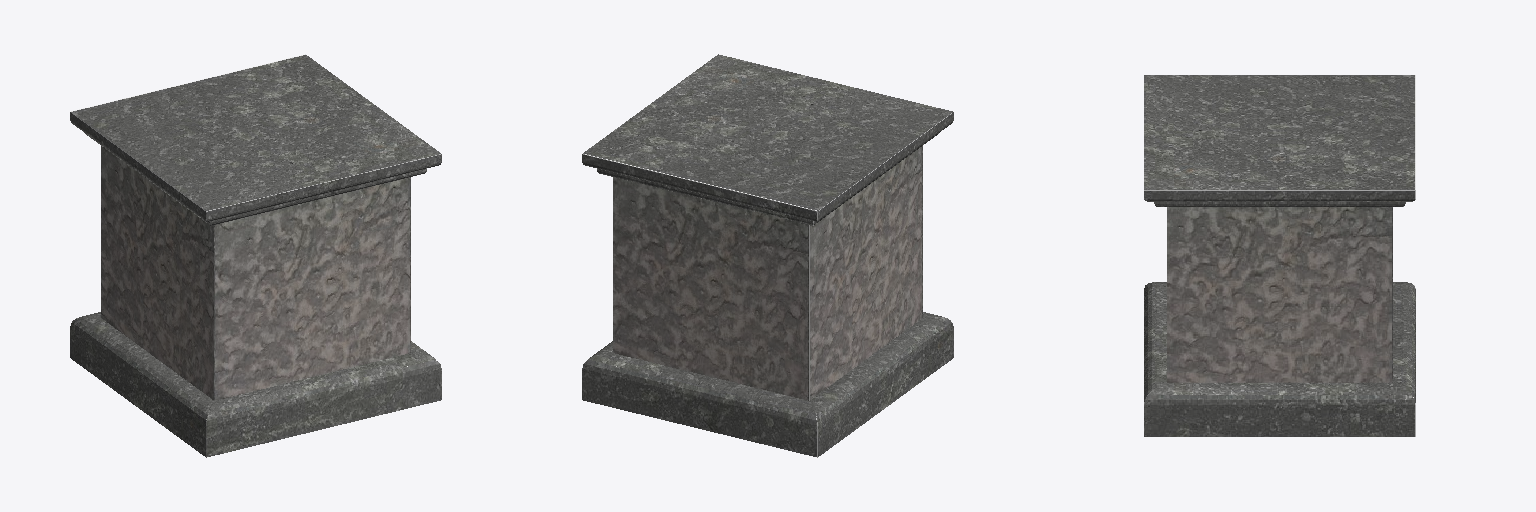
3 renders of one model, left to right at view 1: azimuth 30°, elevation 25°; view 2: azimuth 150°, elevation 25°; view 3: azimuth 270°, elevation 25°, orthographic.
Parts seen in each view (by area): view 1: Form23; view 2: Form23; view 3: Form23.
Boxes of the visible parts, box(x1,y1,x2,y2) form: Form23: box(70, 54, 441, 457); Form23: box(582, 54, 953, 457); Form23: box(1144, 75, 1415, 436).
Bounding box in the file's own units: 5.1 × 5.1 × 5.1.
Materials: 1 (1 with a texture image).